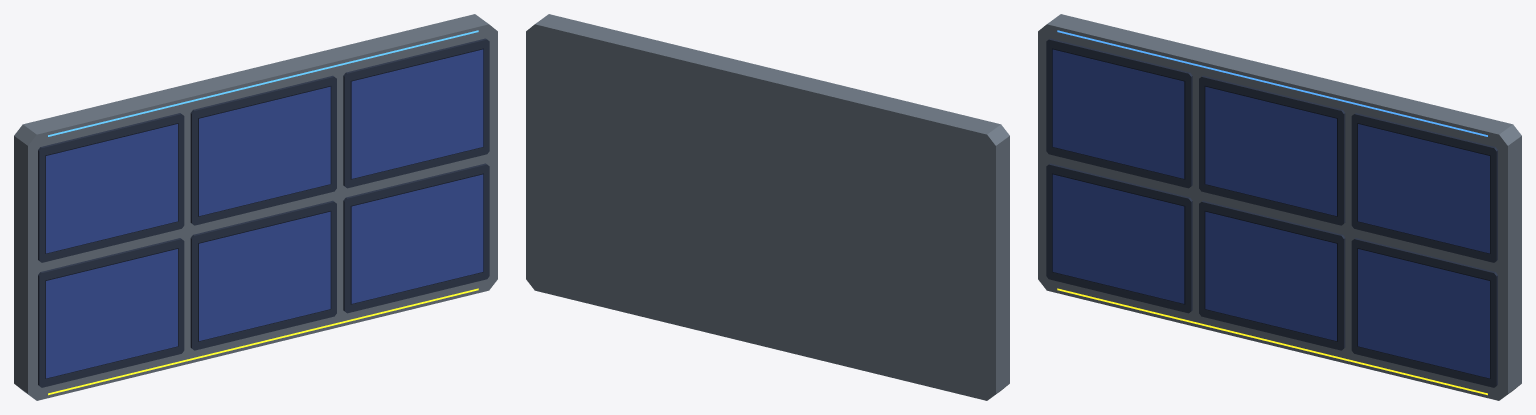
The model's file is fus_telemetry_screen_wall.glb.
3 views of the same model, side by side, from view 1: azimuth 30°, elevation 25°; view 2: azimuth 150°, elevation 25°; view 3: azimuth 330°, elevation 25° (orthographic).
Parts seen in each view (by area): view 1: print, synoptic_frame, print.002, bezel, print.005, standby_screen, lower_status, telemetry_bar.001; view 2: synoptic_frame; view 3: print, synoptic_frame, print.002, bezel, print.005, standby_screen, lower_status, telemetry_bar.001.
Boxes of the visible parts, <box> form: print: <box>46,124,483,378</box>; synoptic_frame: <box>14,14,497,400</box>; print.002: <box>199,86,330,340</box>; bezel: <box>38,38,489,387</box>; print.005: <box>351,49,483,178</box>; standby_screen: <box>45,48,483,378</box>; lower_status: <box>48,288,478,395</box>; telemetry_bar.001: <box>48,30,478,136</box>; synoptic_frame: <box>526,14,1009,400</box>; print: <box>1052,49,1489,378</box>; synoptic_frame: <box>1038,14,1521,400</box>; print.002: <box>1205,86,1336,340</box>; bezel: <box>1046,38,1497,387</box>; print.005: <box>1358,124,1489,253</box>; standby_screen: <box>1052,48,1490,378</box>; lower_status: <box>1057,288,1487,395</box>; telemetry_bar.001: <box>1057,30,1487,136</box>.
Bounding box in the file's own units: 4.8 × 2.6 × 0.28.
